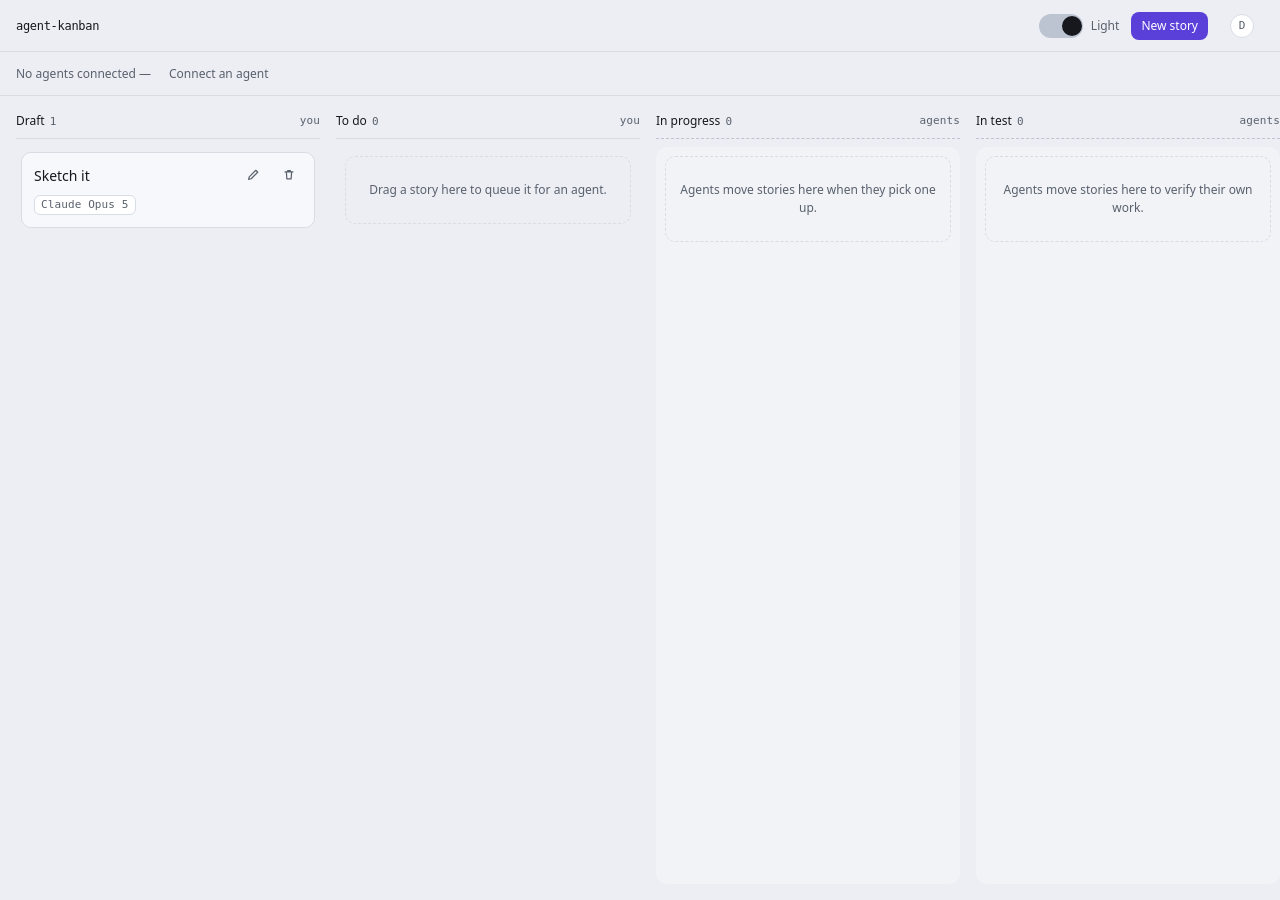
Test: BoardScreen — story dialogs › opens the edit dialog, pre-filled, from a draft card
Expected: the button "Sketch it" is shown, [34,165,302,187]
Click the button named "Edit Sketch it".
click(253, 175)  # box [236,161,270,189]
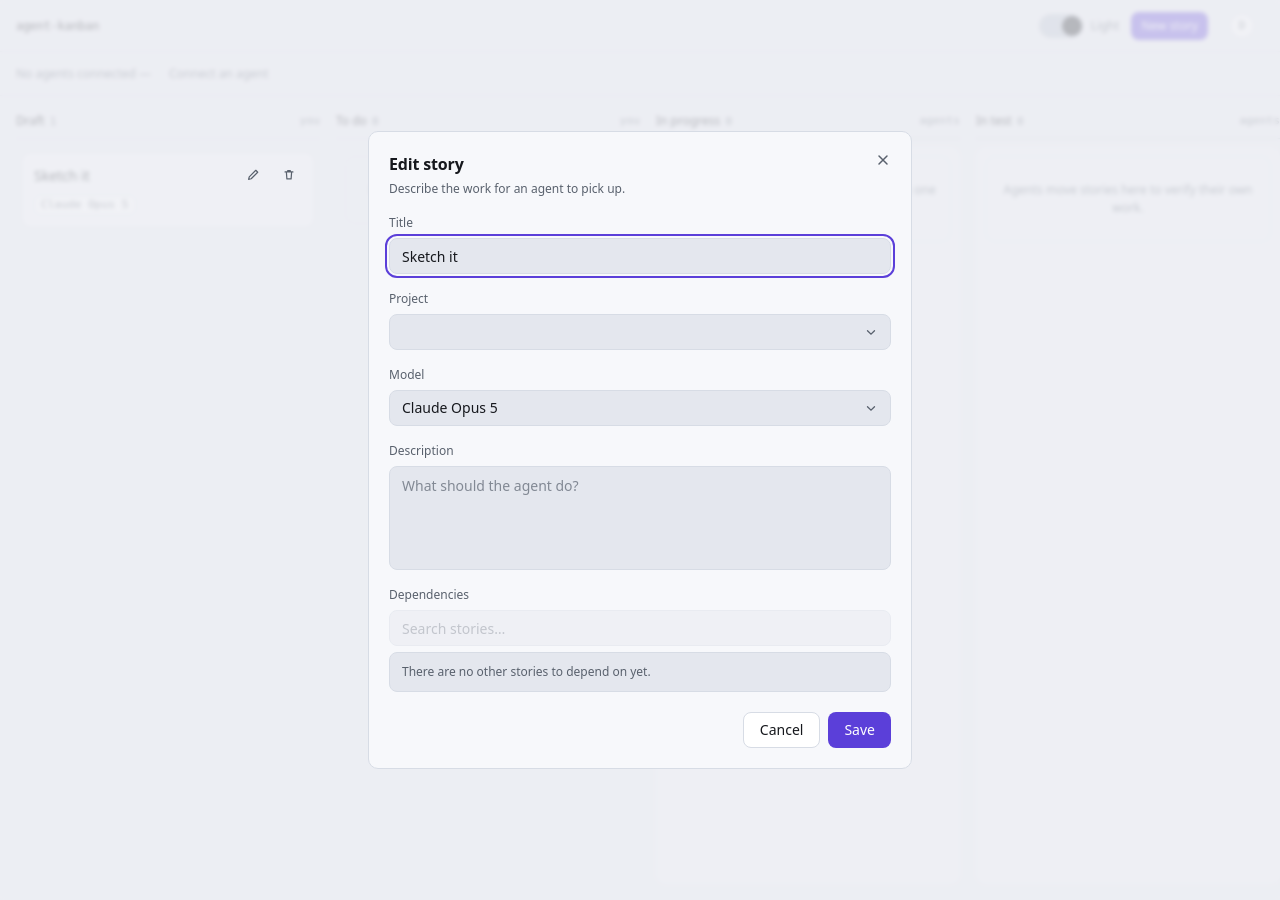
Now the field labelled "Title" holds "Sketch it", box [389,238,891,274]
